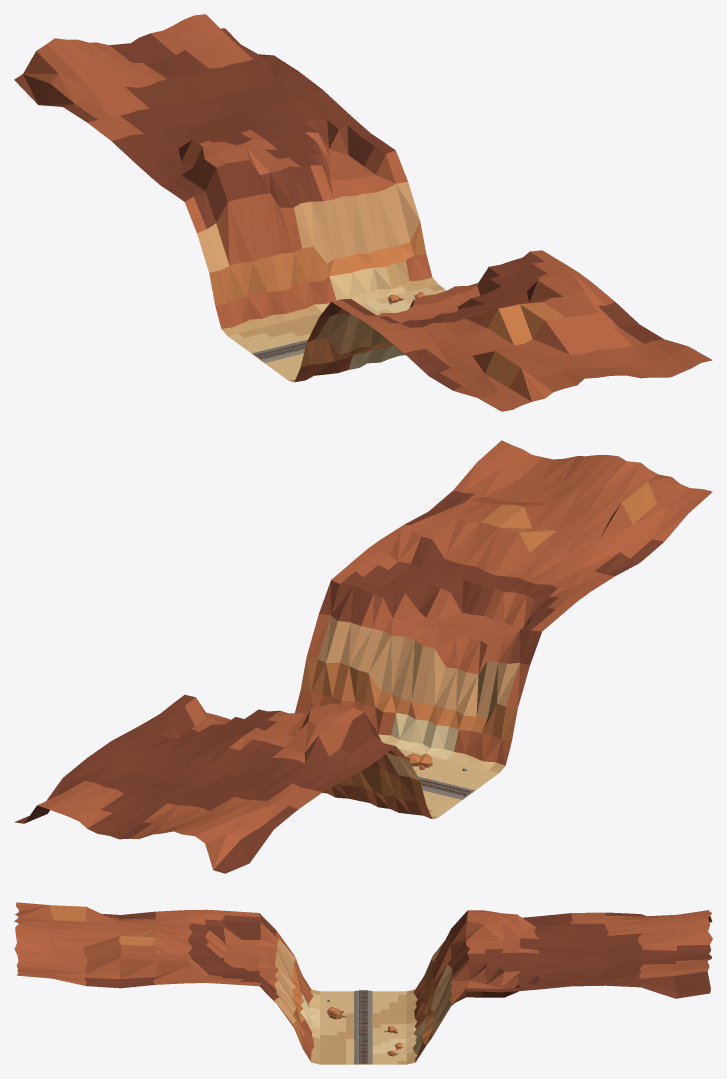
The model's file is SM_FG_Chunk_CanyonDeep_Mid_A.fbx.
The picture shows the model from 3 angles, top to bottom: view 1: azimuth 30°, elevation 25°; view 2: azimuth 150°, elevation 25°; view 3: azimuth 270°, elevation 25°; orthographic projection. The views are drawn at different scales.
Parts seen in each view (by area): view 1: FG_Chunk_CanyonDeep_Mid_A_Ground, FG_Chunk_CanyonDeep_Mid_A_Track; view 2: FG_Chunk_CanyonDeep_Mid_A_Ground; view 3: FG_Chunk_CanyonDeep_Mid_A_Ground, FG_Chunk_CanyonDeep_Mid_A_Track, FG_Chunk_CanyonDeep_Mid_A_SceneryNear.
Boxes of the visible parts, left/top/right/bottom form: FG_Chunk_CanyonDeep_Mid_A_Ground: left=14, top=14, right=712, bottom=411; FG_Chunk_CanyonDeep_Mid_A_Track: left=252, top=340, right=307, bottom=362; FG_Chunk_CanyonDeep_Mid_A_Ground: left=14, top=440, right=712, bottom=873; FG_Chunk_CanyonDeep_Mid_A_Ground: left=14, top=902, right=712, bottom=1064; FG_Chunk_CanyonDeep_Mid_A_Track: left=354, top=990, right=372, bottom=1064; FG_Chunk_CanyonDeep_Mid_A_SceneryNear: left=327, top=1000, right=402, bottom=1056.
Bounding box in the file's own units: 5000 × 20152 × 3240.
